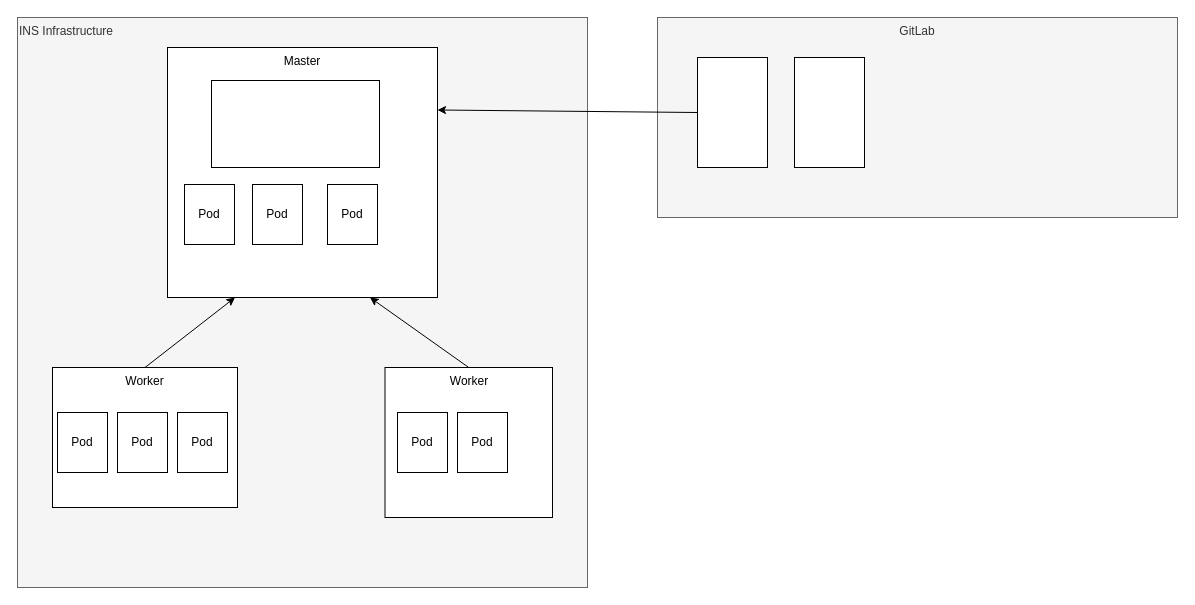
This 1195x605 diagram has some shape labels left out. Each missing label, with the centre of its shape:
"API Server (Pods, Services,...) => our Web-API" goes at (x=295, y=124).
"Docker Images" goes at (x=829, y=112).
"YAML (Config)" goes at (x=732, y=112).
